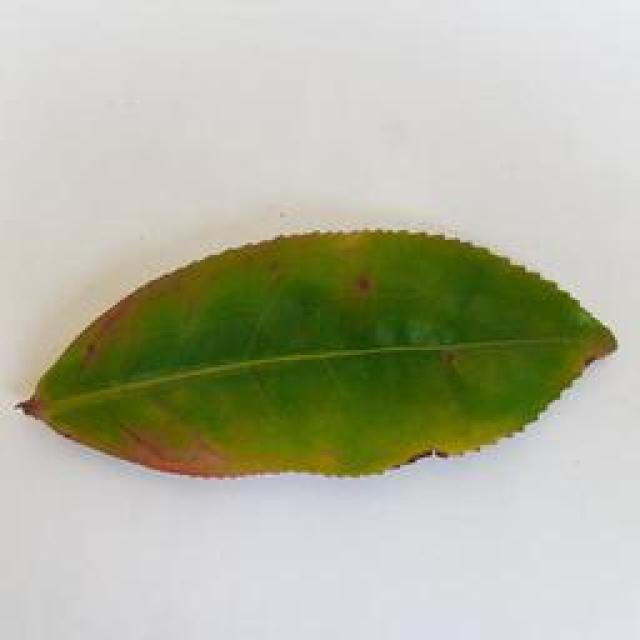Red Leaf Spot: (0, 217, 635, 495)
